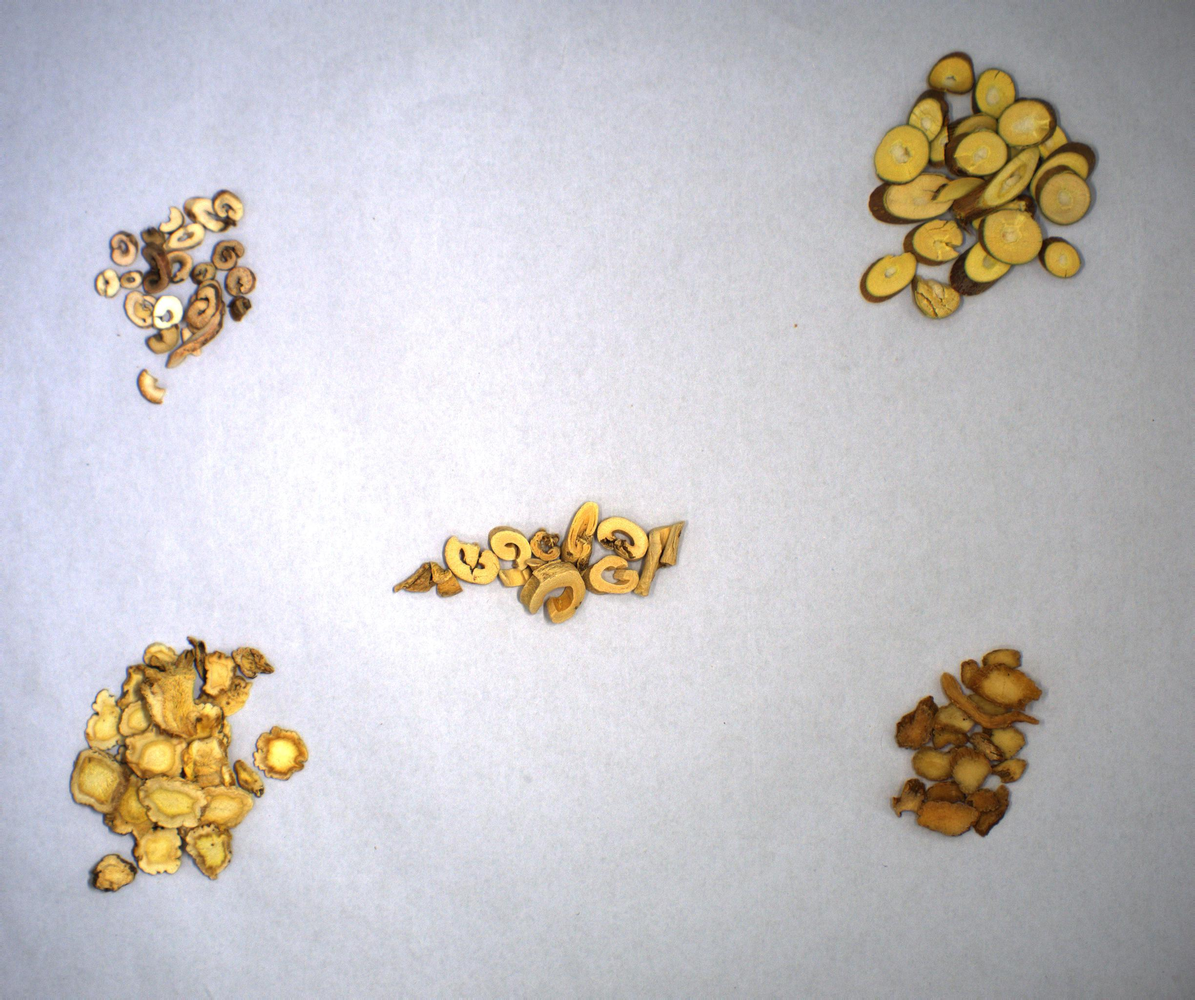baixianpi: (379, 476, 734, 634)
jiegeng: (66, 611, 325, 954)
mudanpi: (67, 159, 305, 423)
sangzhi: (837, 30, 1126, 398)
yuzhu: (867, 619, 1081, 904)
